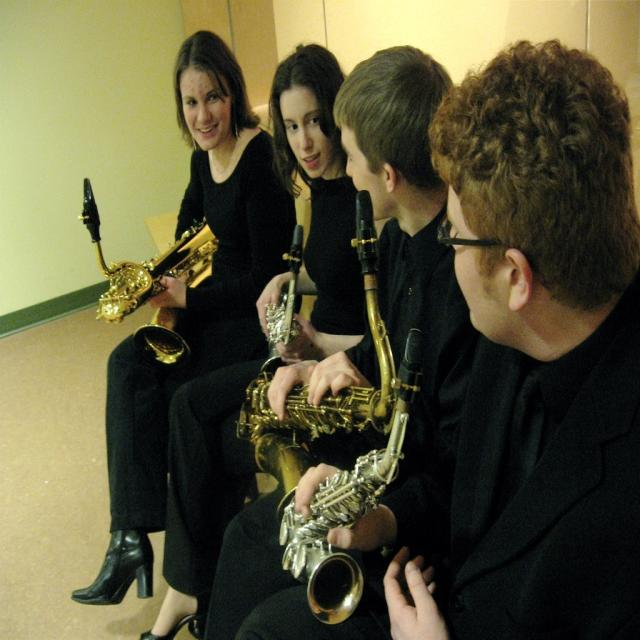saxophone: (228, 185, 405, 507), (265, 327, 451, 618)
